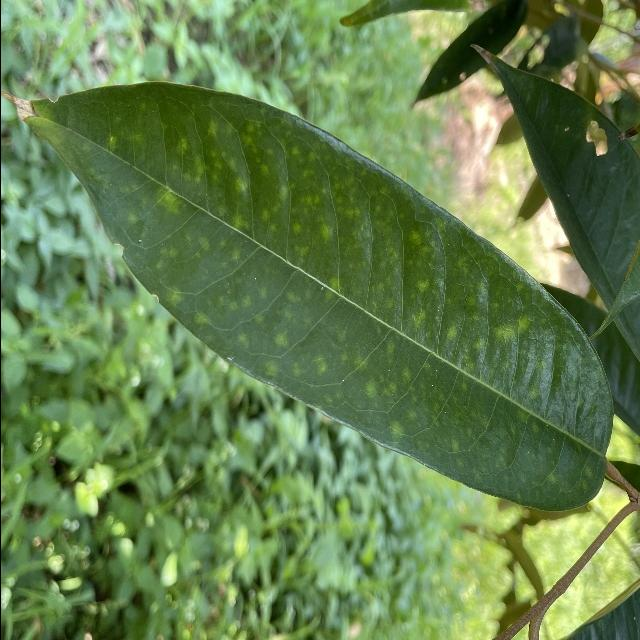Leaf Spot: (9, 77, 619, 514)
